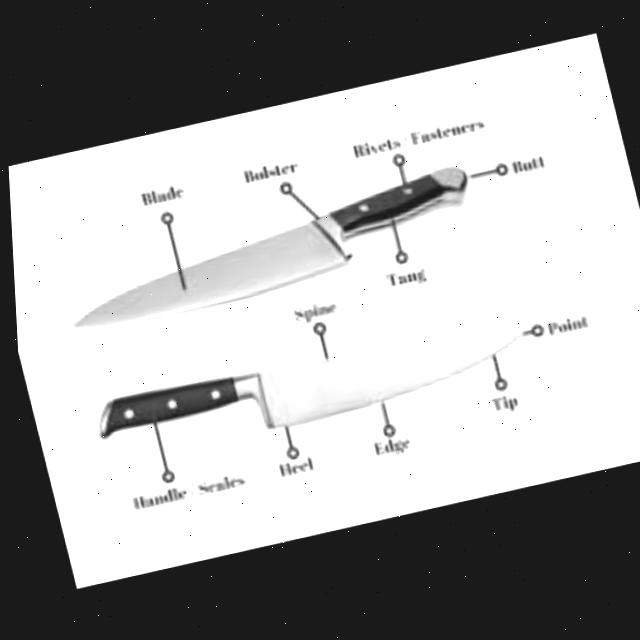knife: (45, 162, 483, 338), (83, 307, 536, 468)
